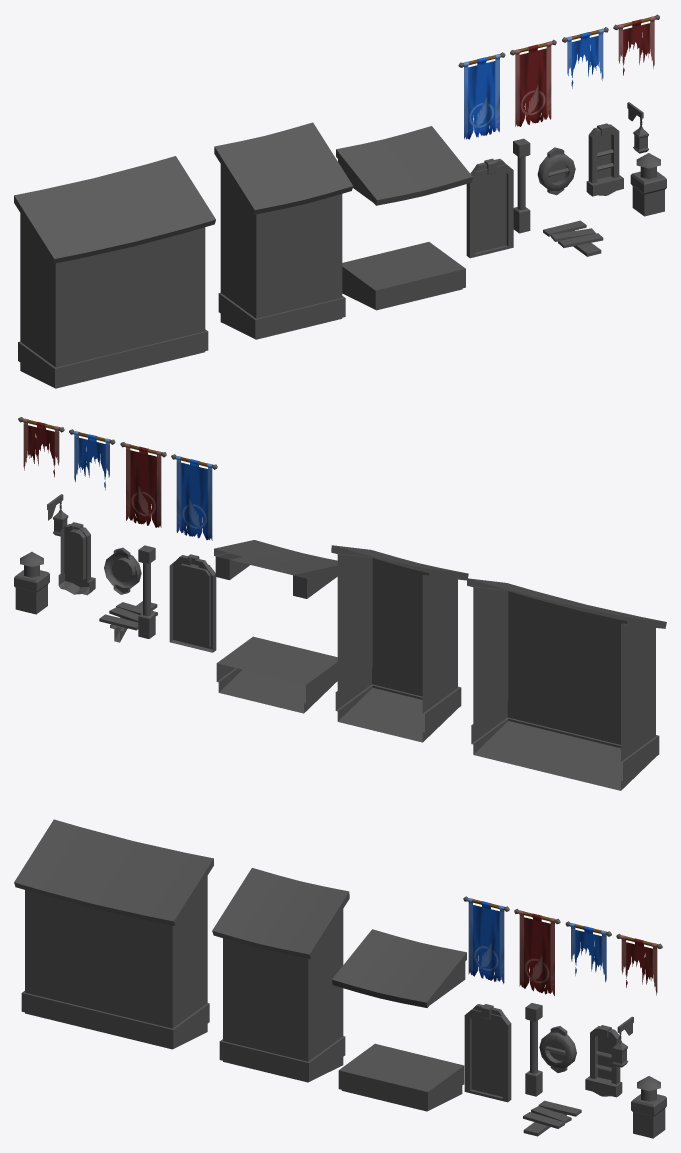
The model's file is cliff_modules_01.FBX.
The picture shows the model from 3 angles, top to bottom: view 1: azimuth 30°, elevation 25°; view 2: azimuth 150°, elevation 25°; view 3: azimuth 330°, elevation 25°; orthographic projection.
Visible parts, largest first — view 1: Large_Shack_001, Small_Shack_001, Small_Open_Platform_001, Small_Door_001, Standard_Flag_002, Standard_Flag_001, Medium_Window_001, Small_Chimney001, Standard_Flag_004, Standard_Flag_003, Small_Window_001, Jump-Ramp_001 (+2 smaller); view 2: Large_Shack_001, Small_Shack_001, Small_Open_Platform_001, Small_Door_001, Standard_Flag_001, Standard_Flag_002, Medium_Window_001, Small_Chimney001, Standard_Flag_003, Standard_Flag_004, Small_Window_001, Small_Pillar_001 (+1 smaller); view 3: Large_Shack_001, Small_Shack_001, Small_Open_Platform_001, Small_Door_001, Standard_Flag_001, Standard_Flag_002, Medium_Window_001, Small_Chimney001, Standard_Flag_003, Standard_Flag_004, Small_Window_001, Jump-Ramp_001 (+2 smaller).
Part boxes in pixels (x1,y1,x2,y2): Large_Shack_001: (14, 156, 215, 388); Small_Shack_001: (214, 122, 353, 339); Small_Open_Platform_001: (336, 126, 472, 310); Small_Door_001: (466, 158, 513, 258); Standard_Flag_002: (510, 39, 556, 126); Standard_Flag_001: (458, 52, 505, 139); Medium_Window_001: (586, 123, 623, 196); Small_Chimney001: (630, 153, 666, 216); Standard_Flag_004: (562, 27, 608, 88); Standard_Flag_003: (613, 14, 659, 75); Small_Window_001: (537, 147, 575, 195); Jump-Ramp_001: (543, 220, 603, 256); Large_Shack_001: (467, 578, 666, 790); Small_Shack_001: (331, 545, 468, 742); Small_Open_Platform_001: (214, 540, 337, 713); Small_Door_001: (169, 554, 216, 652); Standard_Flag_001: (171, 454, 217, 540); Standard_Flag_002: (120, 442, 166, 527); Medium_Window_001: (58, 522, 95, 595); Small_Chimney001: (14, 552, 49, 614); Standard_Flag_003: (18, 417, 64, 477); Standard_Flag_004: (69, 429, 115, 490); Small_Window_001: (104, 547, 141, 594); Small_Pillar_001: (138, 545, 155, 638); Large_Shack_001: (14, 819, 213, 1049); Small_Shack_001: (212, 868, 349, 1082); Small_Open_Platform_001: (332, 929, 466, 1111); Small_Door_001: (464, 1004, 511, 1102); Standard_Flag_001: (463, 896, 509, 983); Standard_Flag_002: (514, 908, 560, 995); Medium_Window_001: (585, 1025, 622, 1097); Small_Chimney001: (631, 1076, 666, 1138); Standard_Flag_003: (616, 933, 662, 995); Standard_Flag_004: (565, 921, 611, 982); Small_Window_001: (539, 1026, 576, 1072); Jump-Ramp_001: (523, 1100, 581, 1136).
Size of the model in its own units: 305 by 99.53 by 40.99.
